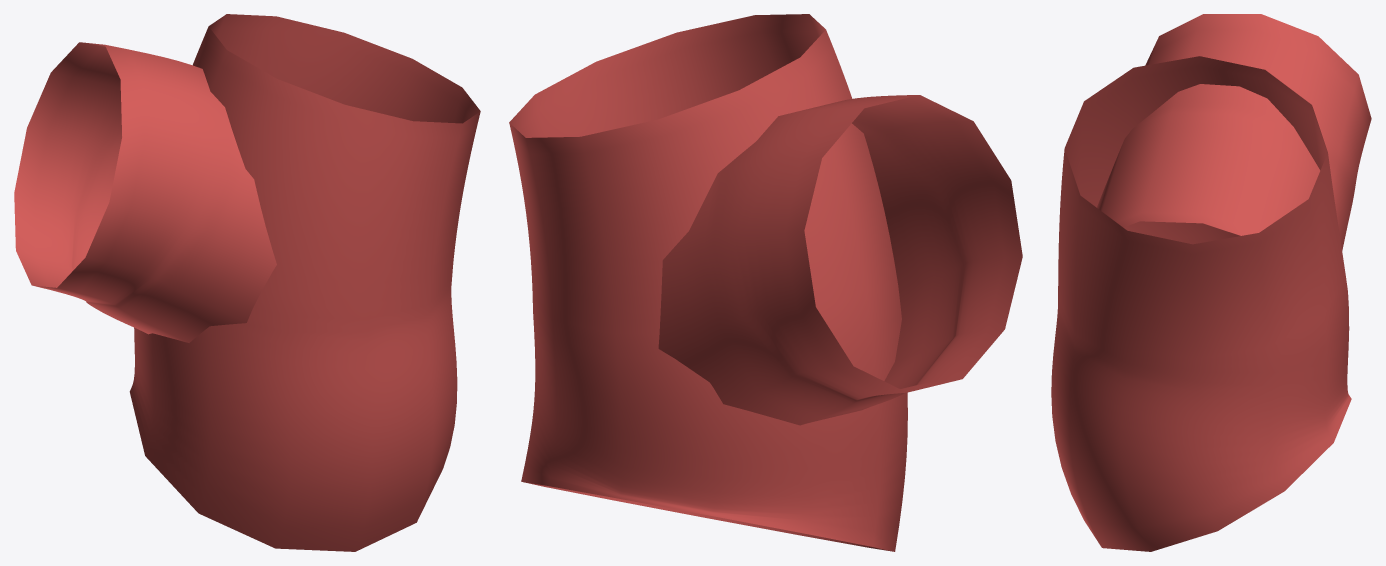
3 views of the same model, side by side, from view 1: azimuth 30°, elevation 25°; view 2: azimuth 150°, elevation 25°; view 3: azimuth 270°, elevation 25° (orthographic). The views are drawn at different scales.
Visible parts, largest first — view 1: 肺动脉干分叉; view 2: 肺动脉干分叉; view 3: 肺动脉干分叉.
Boxes of the visible parts, x1,y1,x2,y2 form: 肺动脉干分叉: (14, 14, 480, 551); 肺动脉干分叉: (509, 14, 1022, 551); 肺动脉干分叉: (1051, 14, 1371, 551).
Bounding box in the file's own units: 0.059 × 0.0661 × 0.0439.
